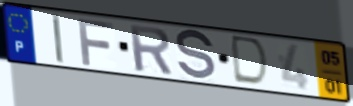4: (278, 43, 313, 93)
D: (231, 33, 271, 89)
F: (76, 16, 116, 68)
I: (49, 12, 66, 66)
R: (127, 22, 175, 76)
S: (174, 28, 218, 83)
